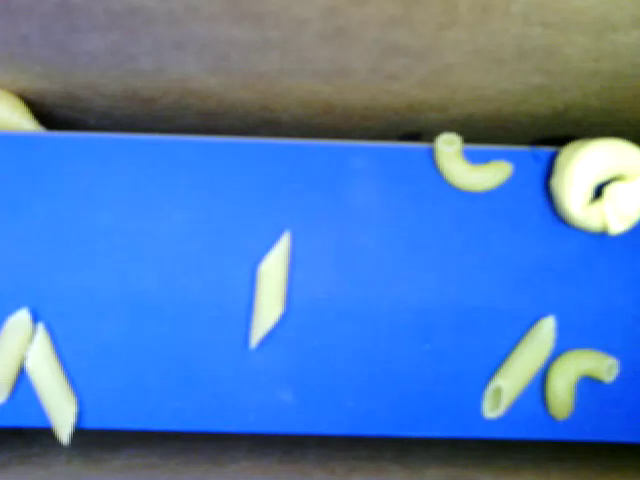elbow: (544, 346, 622, 421), (432, 132, 513, 194)
penne: (478, 311, 555, 423), (24, 321, 77, 449), (245, 227, 293, 351), (1, 301, 38, 403)
shell: (1, 88, 47, 132)
tortellini: (546, 135, 639, 238)
